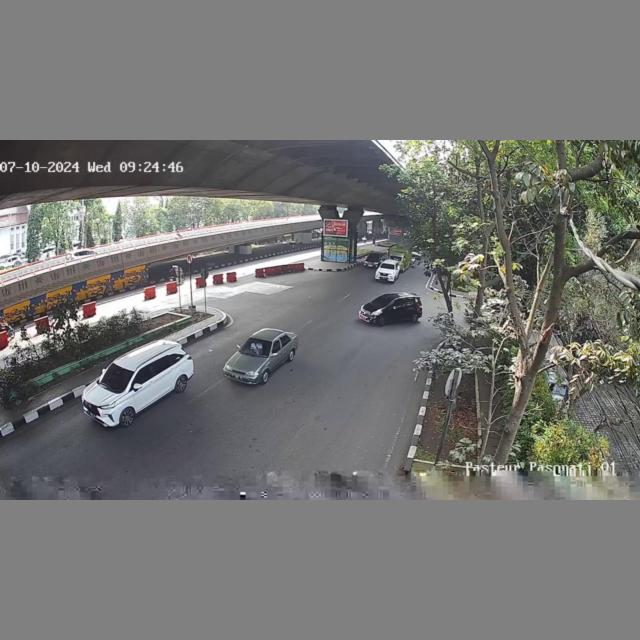windshield: (100, 362, 134, 389), (238, 336, 275, 356), (373, 297, 389, 310), (380, 264, 395, 269)
